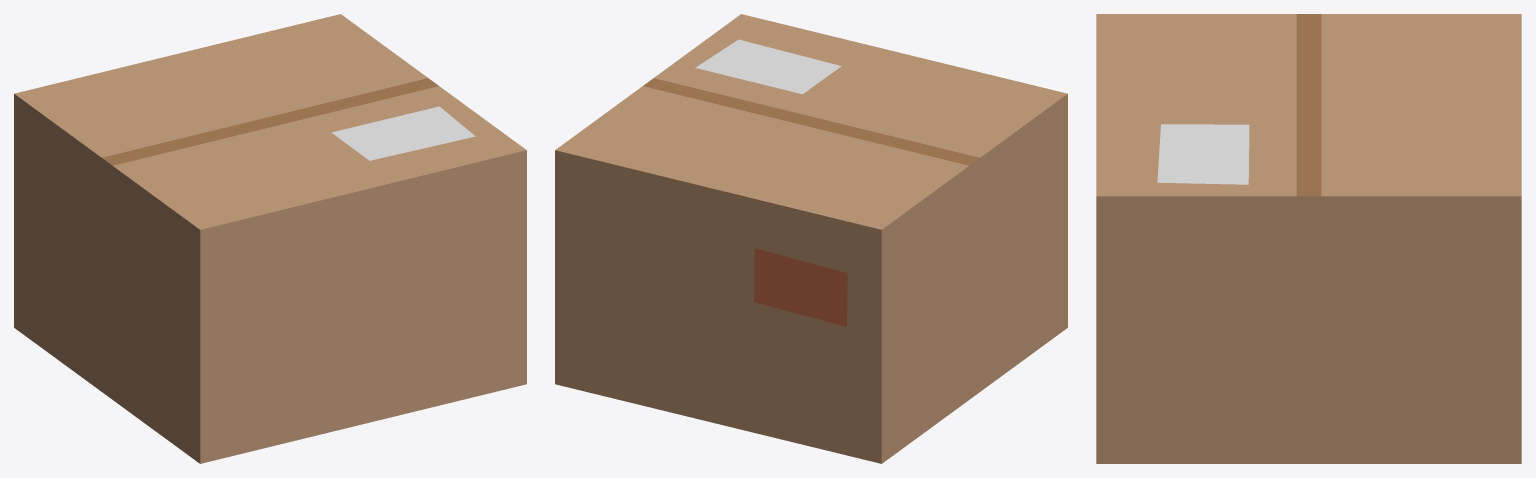
Rendered from PostBox_02.fbx.
3 renders of one model, left to right at view 1: azimuth 30°, elevation 25°; view 2: azimuth 150°, elevation 25°; view 3: azimuth 270°, elevation 25°, orthographic. The views are drawn at different scales.
Visible parts, largest first — view 1: PostBox_02; view 2: PostBox_02; view 3: PostBox_02.
Boxes of the visible parts, x1,y1,x2,y2 form: PostBox_02: (14, 14, 526, 463); PostBox_02: (555, 14, 1067, 463); PostBox_02: (1096, 14, 1521, 463).
Size of the model in its own units: 47.72 by 32.68 by 47.08.
